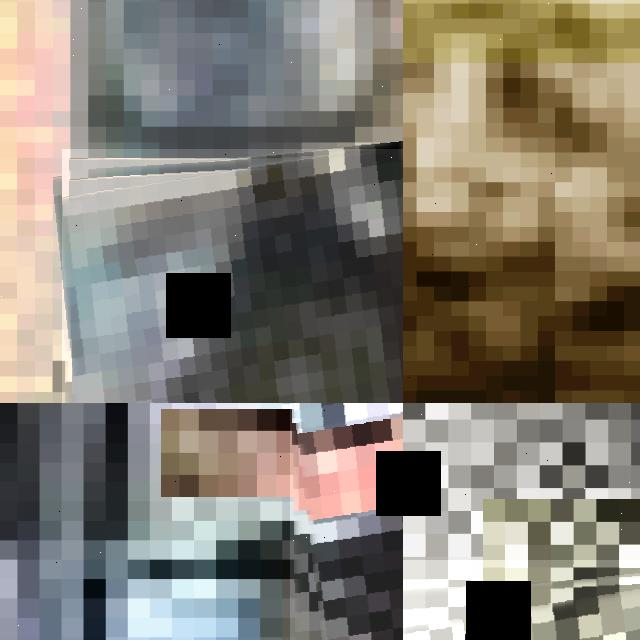arms: (0, 403, 403, 640), (62, 149, 403, 403), (403, 403, 640, 640), (290, 403, 403, 640), (403, 560, 640, 640)
